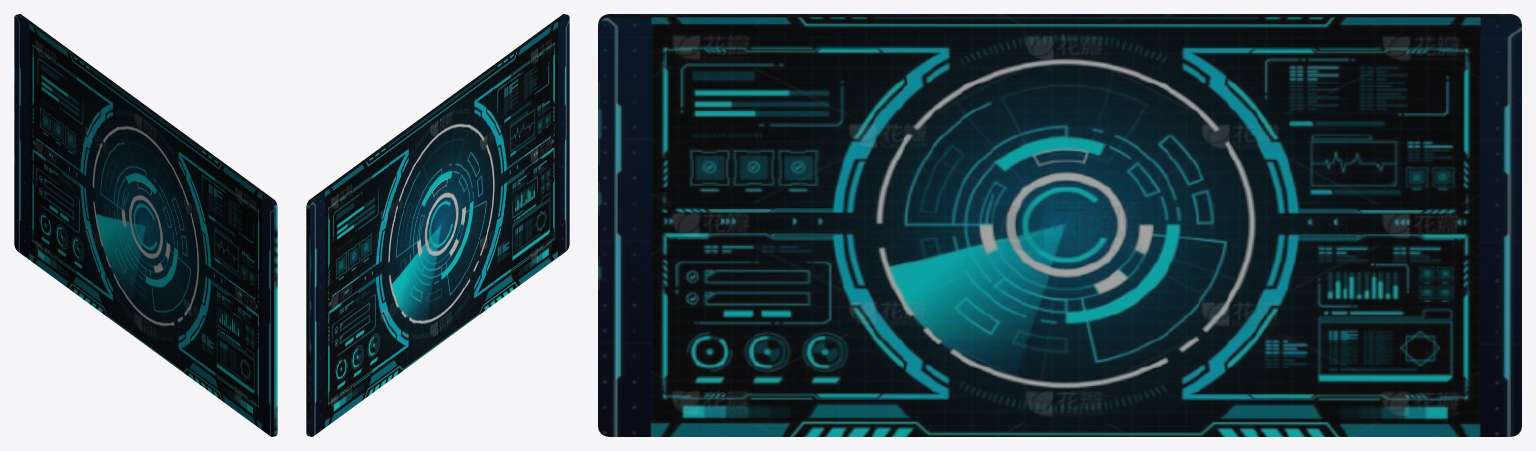
File: holopanel3.fbx
3 views of the same model, side by side, from view 1: azimuth 30°, elevation 25°; view 2: azimuth 150°, elevation 25°; view 3: azimuth 270°, elevation 25° (orthographic). The views are drawn at different scales.
Parts seen in each view (by area): view 1: panel2; view 2: panel2; view 3: panel2.
Part boxes in pixels (x1=…): panel2: x1=14, y1=14, x2=277, y2=436; panel2: x1=306, y1=14, x2=569, y2=436; panel2: x1=598, y1=14, x2=1521, y2=436.
Size of the model in its own units: 1.22 by 74.83 by 149.
